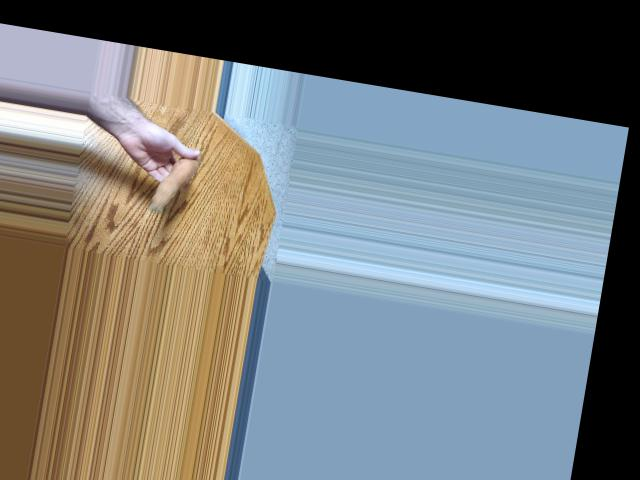sweet_potato: (142, 139, 203, 220)
